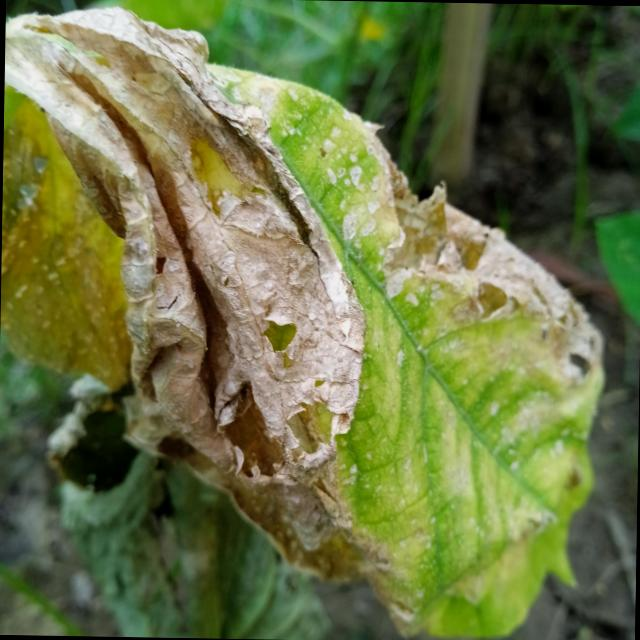cucumber_gummy: (0, 0, 610, 626)
